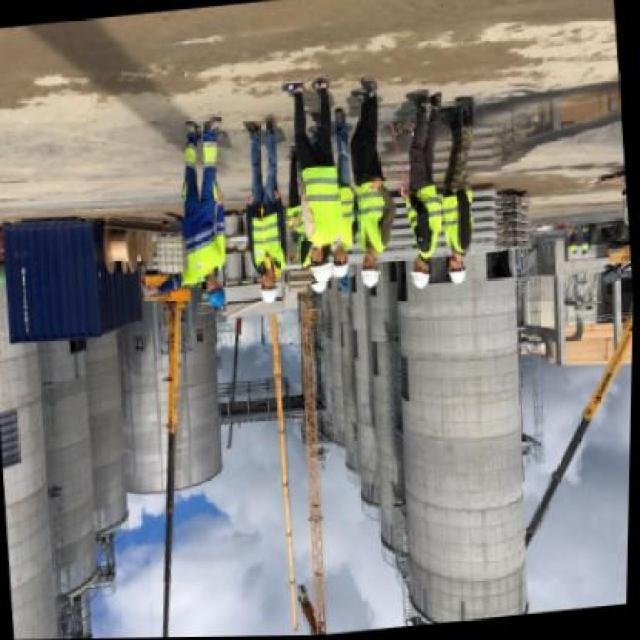helmet: (302, 259, 338, 284), (255, 280, 281, 304), (202, 286, 228, 310), (409, 269, 433, 293), (446, 263, 470, 287), (360, 263, 382, 289), (332, 259, 350, 279)
vest: (294, 162, 342, 248), (171, 206, 227, 279), (348, 175, 391, 261), (245, 200, 289, 278), (403, 183, 445, 263), (442, 184, 478, 258), (334, 180, 358, 252)
